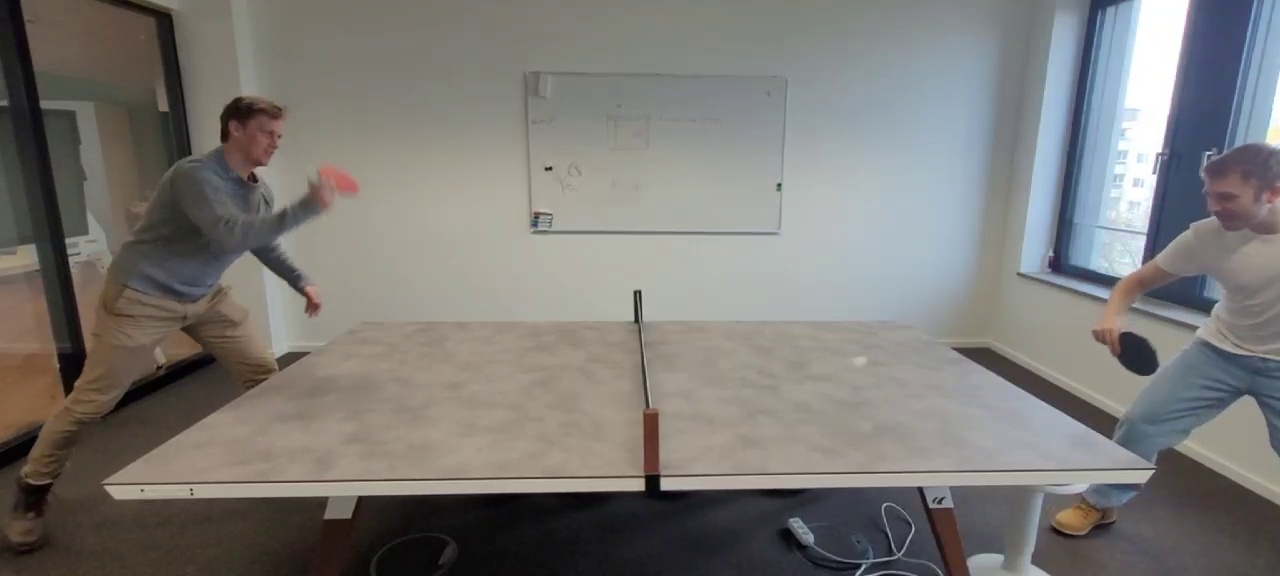1: (1116, 331, 1159, 375), (320, 167, 358, 198)
2: (852, 355, 867, 367)
ttplatte: (102, 322, 1156, 482)
